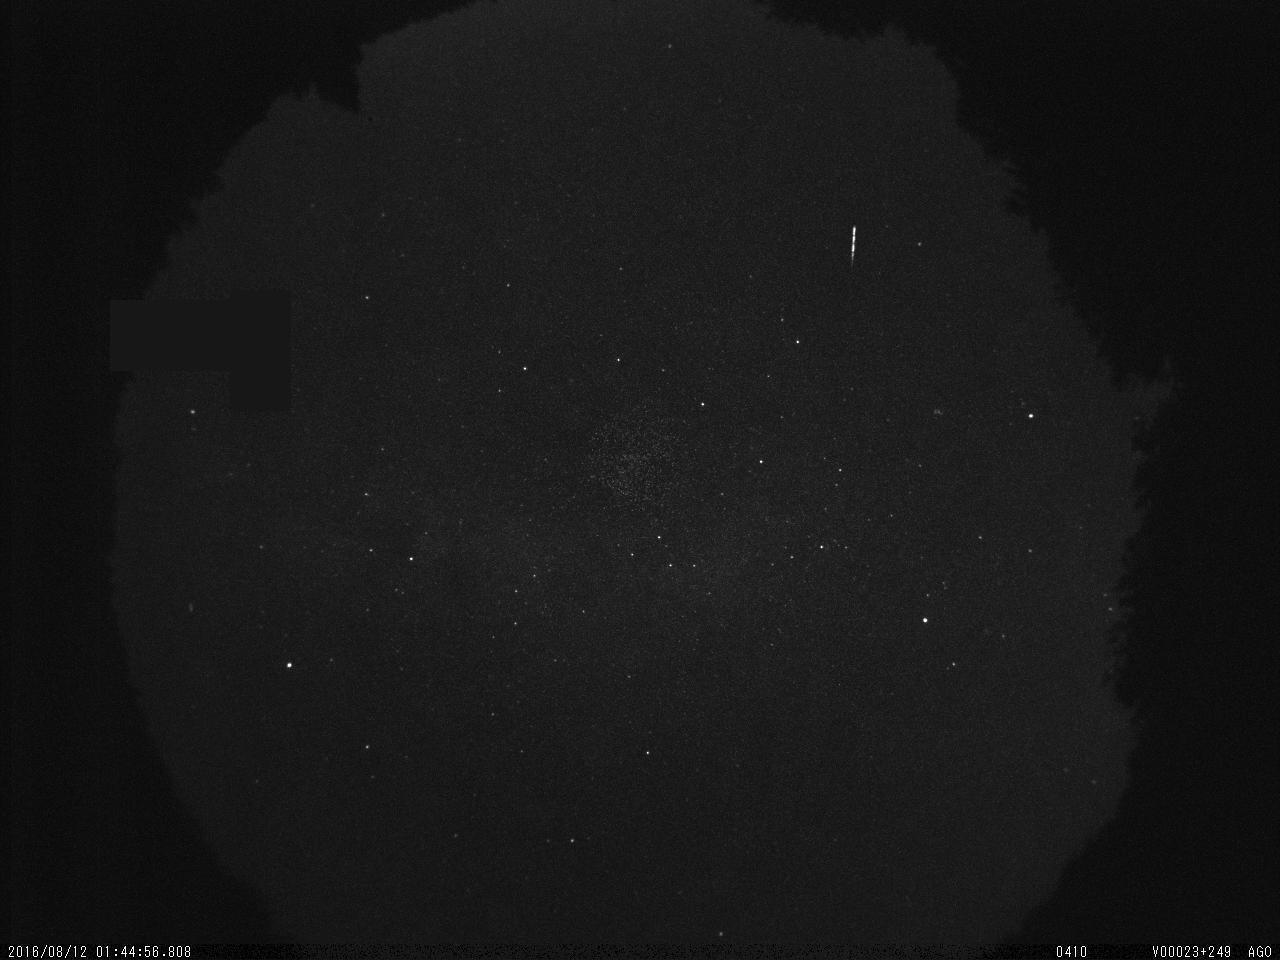Meteor: (843, 216, 865, 279)
